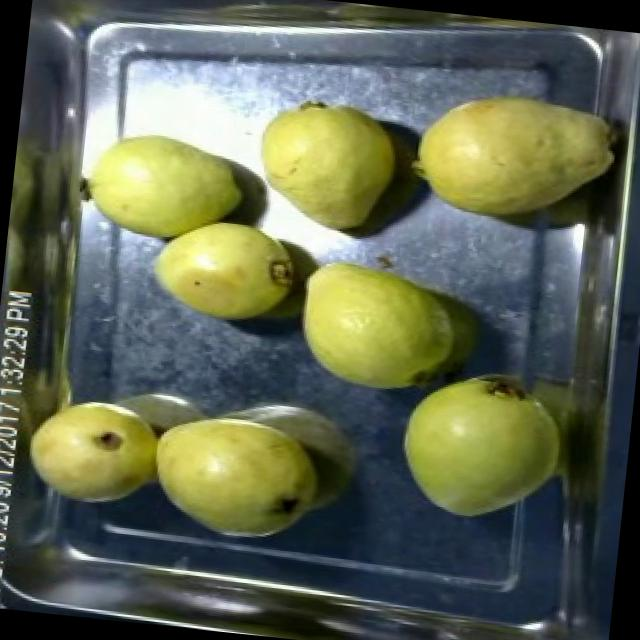Fruit: (398, 69, 631, 242), (278, 241, 486, 408), (384, 357, 576, 532), (138, 393, 338, 556), (237, 77, 413, 245), (67, 110, 258, 258), (136, 201, 313, 334), (14, 384, 170, 514)
